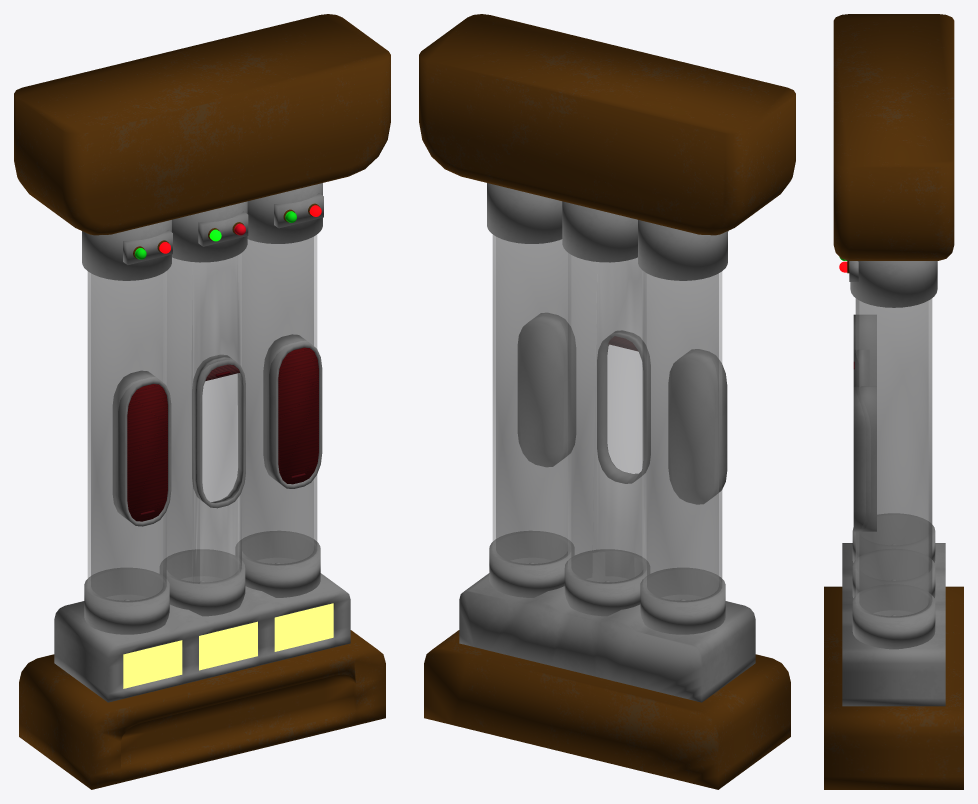
File: Deliverytubes6.glb
The picture shows the model from 3 angles, left to right: view 1: azimuth 30°, elevation 25°; view 2: azimuth 150°, elevation 25°; view 3: azimuth 270°, elevation 25°; orthographic projection. The views are drawn at different scales.
Visible parts, largest first — view 1: Cube.002, Cube.001, Circle.001, Circle, Circle.002, Cube, Cube.011, Cube.014, Cylinder.009, Cylinder.011, Cylinder.010, Cylinder.001 (+8 smaller); view 2: Cube.002, Cube.001, Circle, Circle.001, Circle.002, Cube, Cube.006, Cube.013, Cylinder.009, Cylinder.011, Cylinder.010, Cylinder.001 (+3 smaller); view 3: Cube.002, Circle.002, Cube.001, Cube, Cylinder.011, Cylinder.002, Cube.013, Cylinder.010, Cylinder.009, Cube.006, Circle.001, Cube.008.
Boxes of the visible parts, <box> form: Cube.002: <box>14,14,390,235</box>; Cube.001: <box>19,630,385,789</box>; Circle.001: <box>163,253,241,583</box>; Circle: <box>87,271,166,601</box>; Circle.002: <box>239,235,317,565</box>; Cube: <box>54,573,350,702</box>; Cube.011: <box>127,384,167,521</box>; Cube.014: <box>278,347,318,484</box>; Cylinder.009: <box>84,568,169,634</box>; Cylinder.011: <box>235,531,320,597</box>; Cylinder.010: <box>160,549,245,616</box>; Cylinder.001: <box>82,220,172,280</box>; Cube.002: <box>419,14,795,235</box>; Cube.001: <box>424,630,790,789</box>; Circle: <box>643,271,722,601</box>; Circle.001: <box>568,253,646,583</box>; Circle.002: <box>492,235,570,565</box>; Cube: <box>459,573,755,702</box>; Cube.006: <box>668,349,727,504</box>; Cube.013: <box>517,313,575,467</box>; Cylinder.009: <box>640,568,725,634</box>; Cylinder.011: <box>489,531,574,597</box>; Cylinder.010: <box>564,549,649,616</box>; Cylinder.001: <box>638,220,728,280</box>; Cube.002: <box>833,14,954,260</box>; Circle.002: <box>855,298,932,617</box>; Cube.001: <box>824,586,963,789</box>; Cube: <box>842,543,945,706</box>; Cylinder.011: <box>852,584,935,649</box>; Cylinder.002: <box>849,261,937,307</box>; Cube.013: <box>853,386,876,531</box>; Cylinder.010: <box>852,549,935,597</box>; Cylinder.009: <box>852,513,935,562</box>; Cube.006: <box>853,314,876,386</box>; Circle.001: <box>856,299,931,564</box>; Cube.008: <box>854,349,869,386</box>.
Size of the model in its own units: 9.51 by 18.2 by 3.66.
12 materials, 12 textured.
